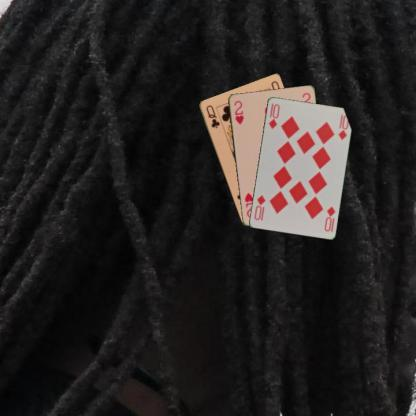10d: (266, 101, 281, 130), (322, 204, 336, 233)
2h: (231, 98, 245, 125)
Qc: (203, 102, 221, 130)
